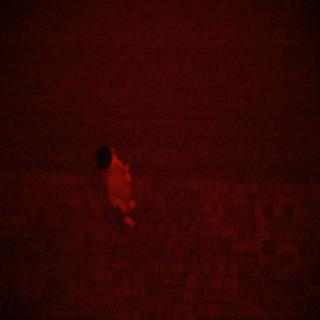person: (81, 133, 142, 237)
